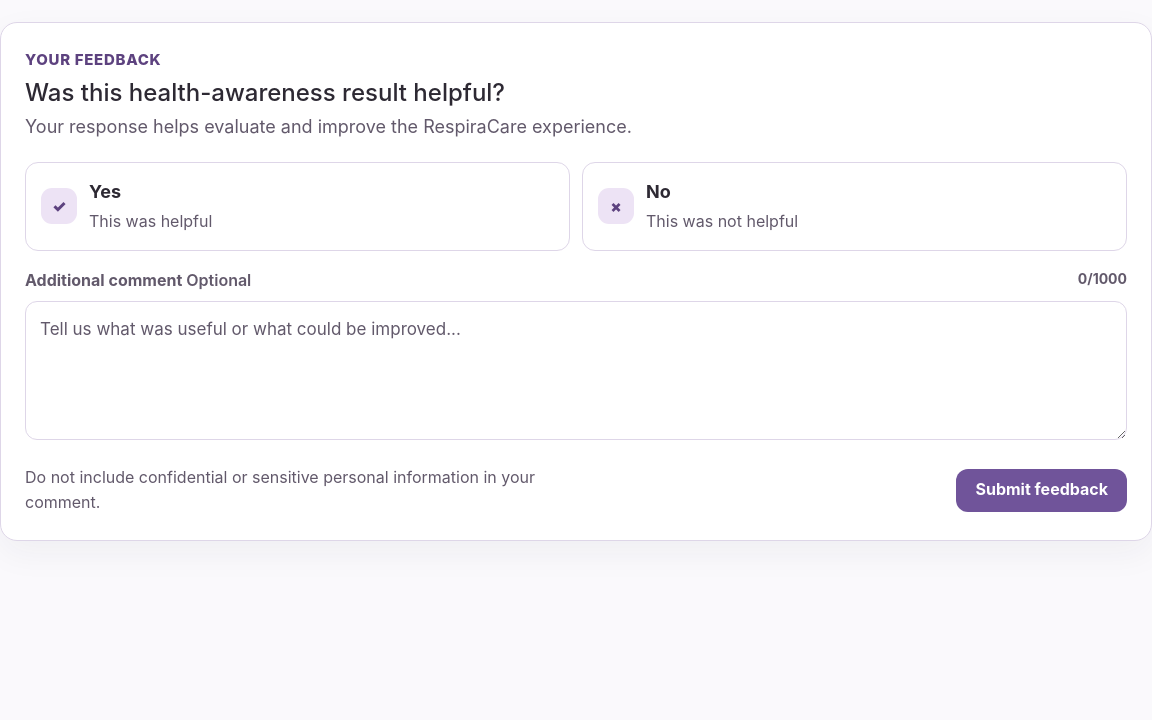
Test: PredictionFeedback › announces a missing answer as an alert
Step 1. Click the button "Submit feedback" → x=1042, y=490, box [956,469,1127,512]
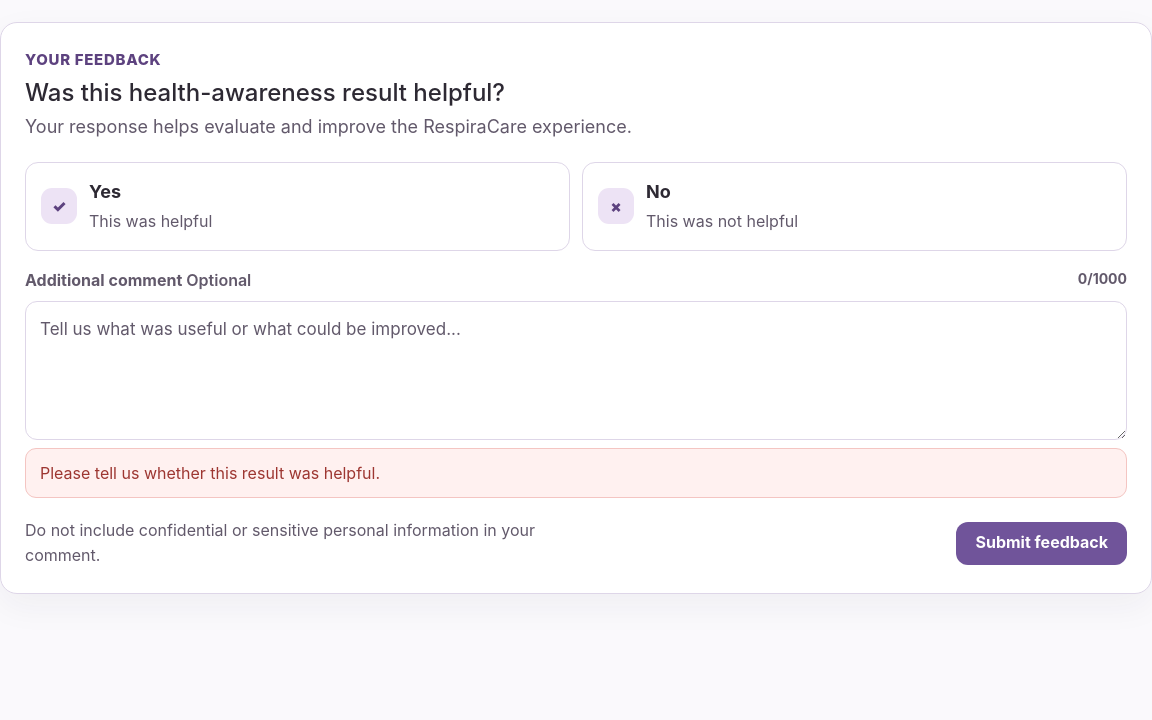
Check: the message reads "Please tell us whether this result was helpful.", box [40,462,380,482]
